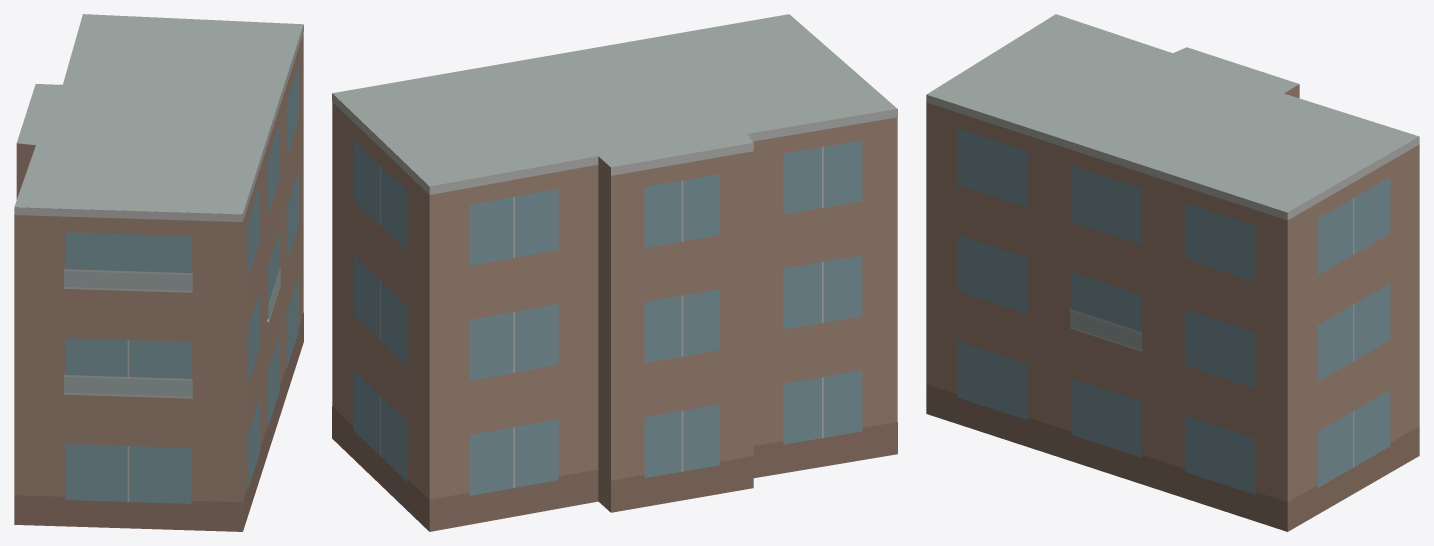
Rendered from survey-upis-33020598.glb.
The picture shows the model from 3 angles, left to right: view 1: azimuth 30°, elevation 25°; view 2: azimuth 150°, elevation 25°; view 3: azimuth 270°, elevation 25°; orthographic projection. The views are drawn at different scales.
Parts seen in each view (by area): view 1: survey-upis-33020598.tmp; view 2: survey-upis-33020598.tmp; view 3: survey-upis-33020598.tmp.
Boxes of the visible parts, x1,y1,x2,y2 form: survey-upis-33020598.tmp: [14, 14, 303, 531]; survey-upis-33020598.tmp: [332, 14, 897, 531]; survey-upis-33020598.tmp: [926, 14, 1419, 531].
Size of the model in its own units: 13.35 by 10 by 14.01.
